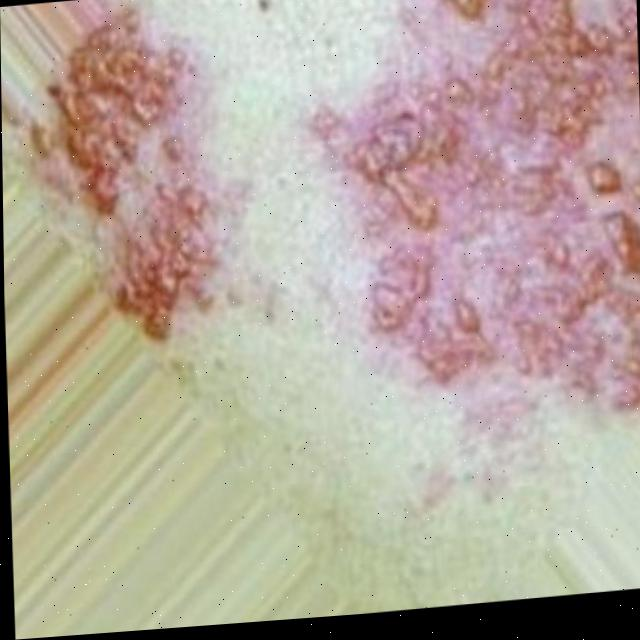Shingles: (343, 0, 640, 476), (36, 8, 221, 347)
